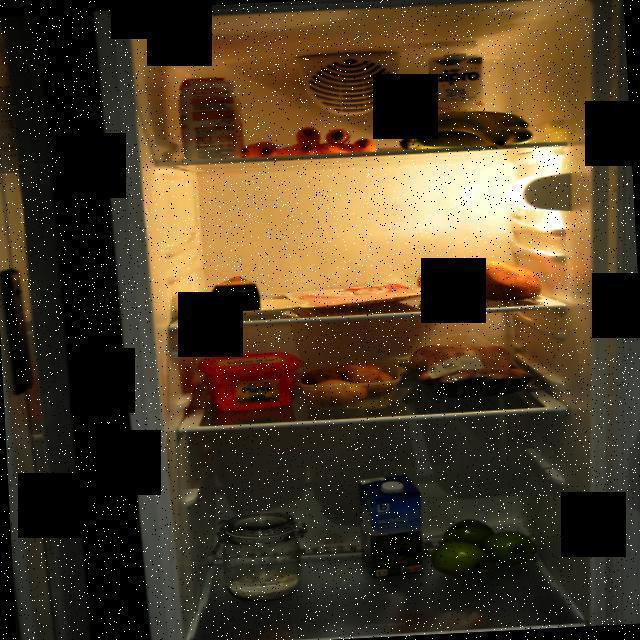apple: (429, 514, 540, 580)
banana: (398, 108, 536, 153)
butter: (196, 350, 305, 414)
carrot: (242, 120, 384, 162)
cheese: (206, 272, 264, 316)
chicken: (396, 336, 536, 404)
flour: (213, 508, 310, 606)
ham: (280, 279, 440, 312)
milk: (354, 471, 428, 579), (426, 49, 488, 142)
potato: (289, 356, 400, 410)
sugar: (176, 75, 248, 161)
sweet_potato: (467, 252, 543, 306), (413, 266, 465, 299)
